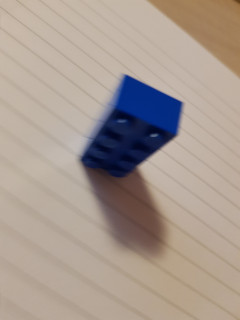2x4 blue: (75, 69, 183, 181)
